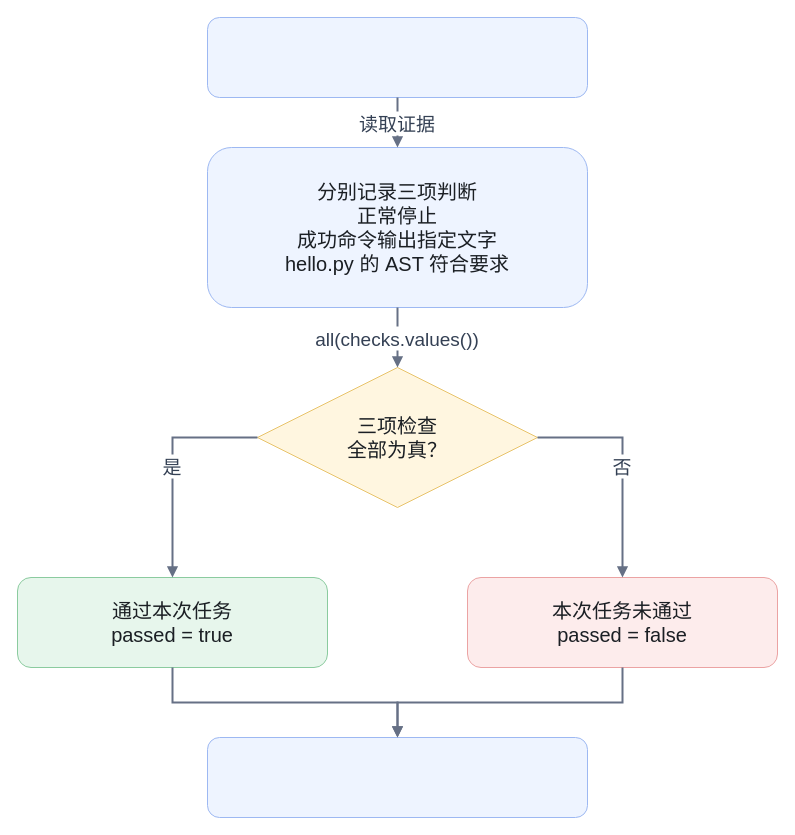
The diagram is 795 pixels wide and 835 high, and some of its shapes have lost their labels. The centre of each missing label's shape, as x and y in pixels:
保留 checks 与 passed 用逐项判断说明原因: (x=397, y=777)
读取本次记录与当前文件 run / workspace / hello.py: (x=397, y=57)
